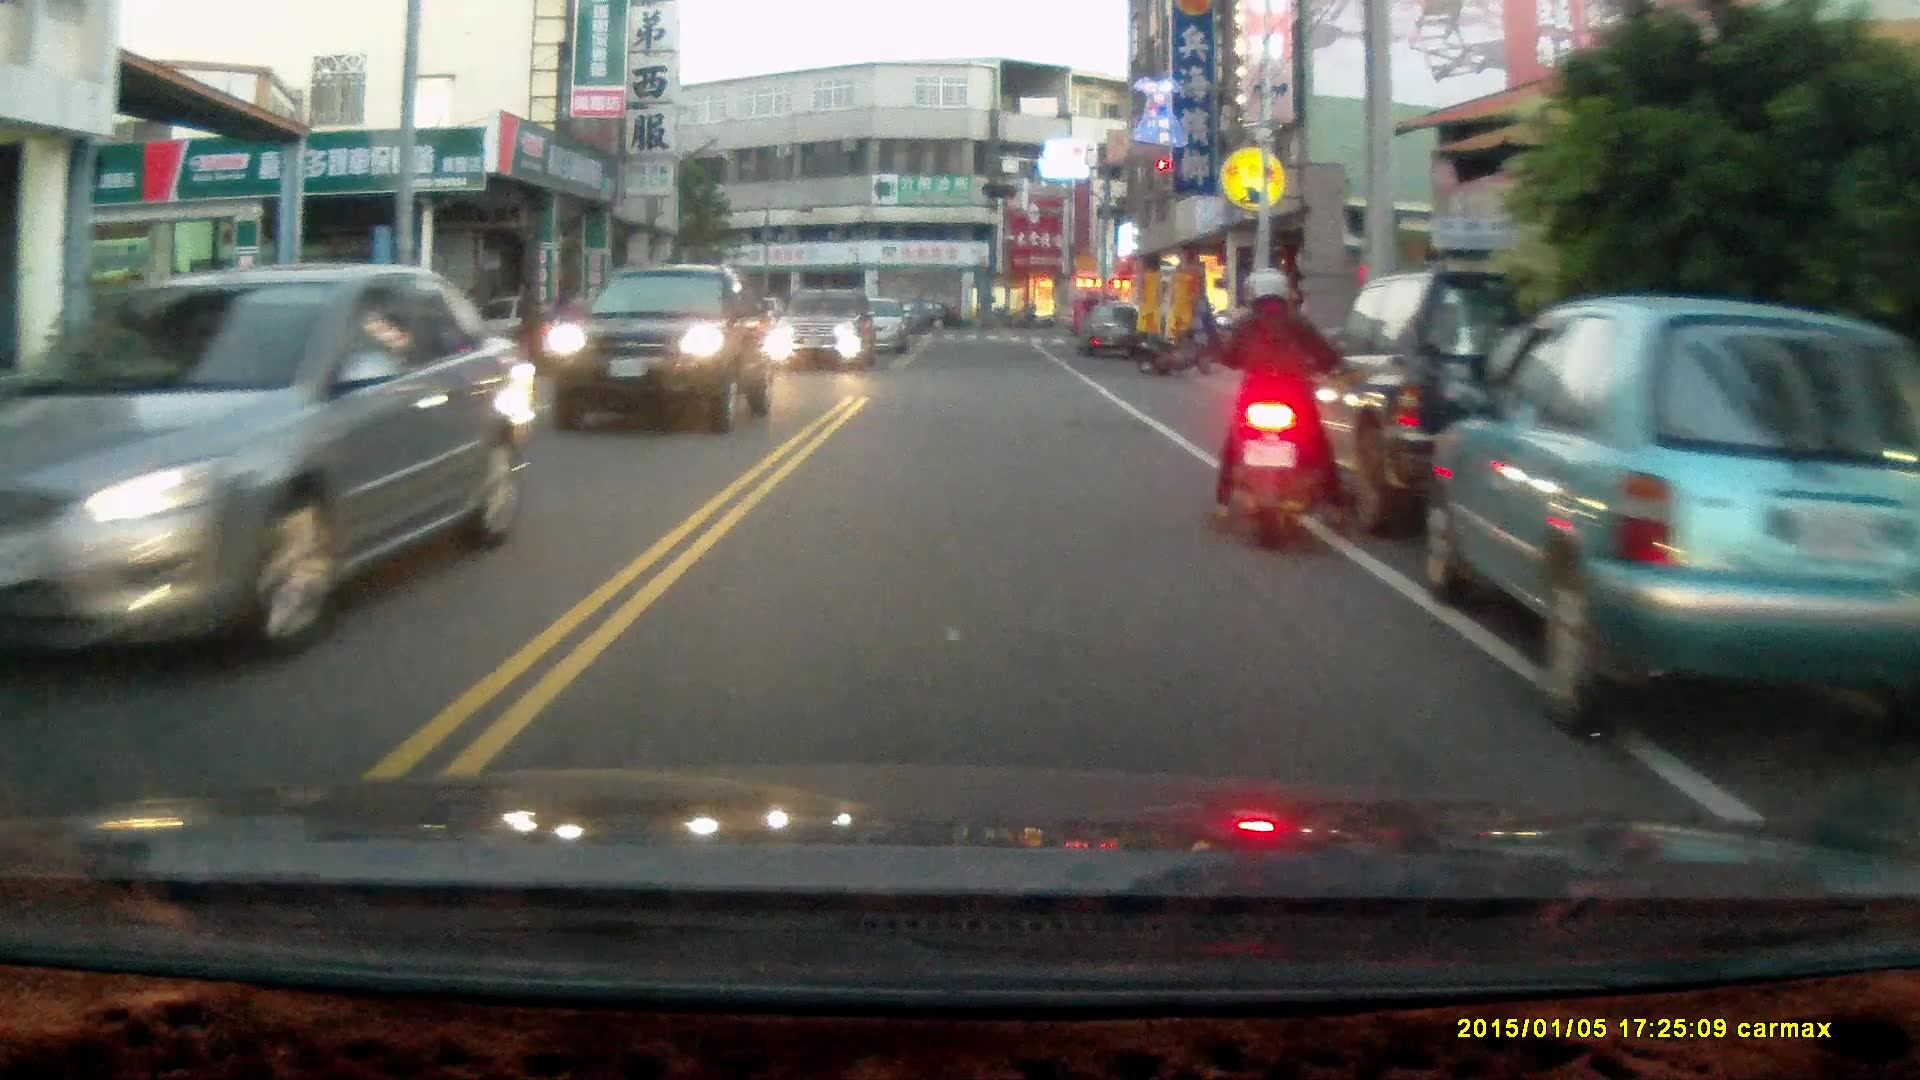rider: (1206, 263, 1349, 555)
vehicle: (1, 261, 556, 665), (1426, 294, 1888, 751), (1260, 269, 1652, 541), (547, 259, 762, 426), (765, 285, 882, 370), (1074, 302, 1144, 360)
